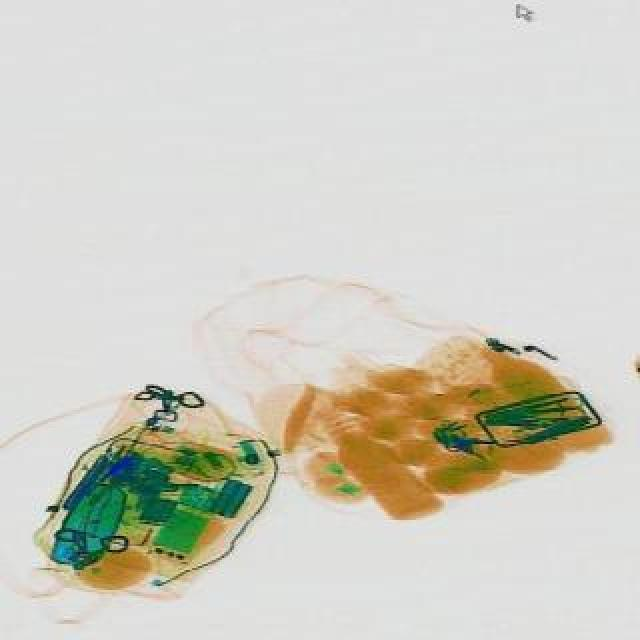pliers: (522, 398, 586, 422)
